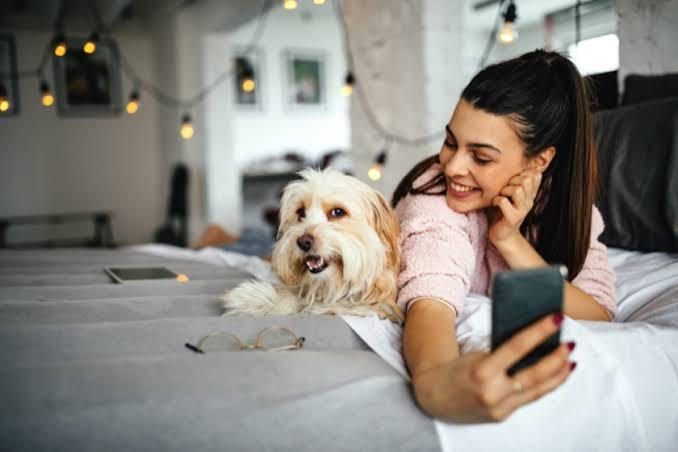adult_dog: (220, 165, 406, 327)
